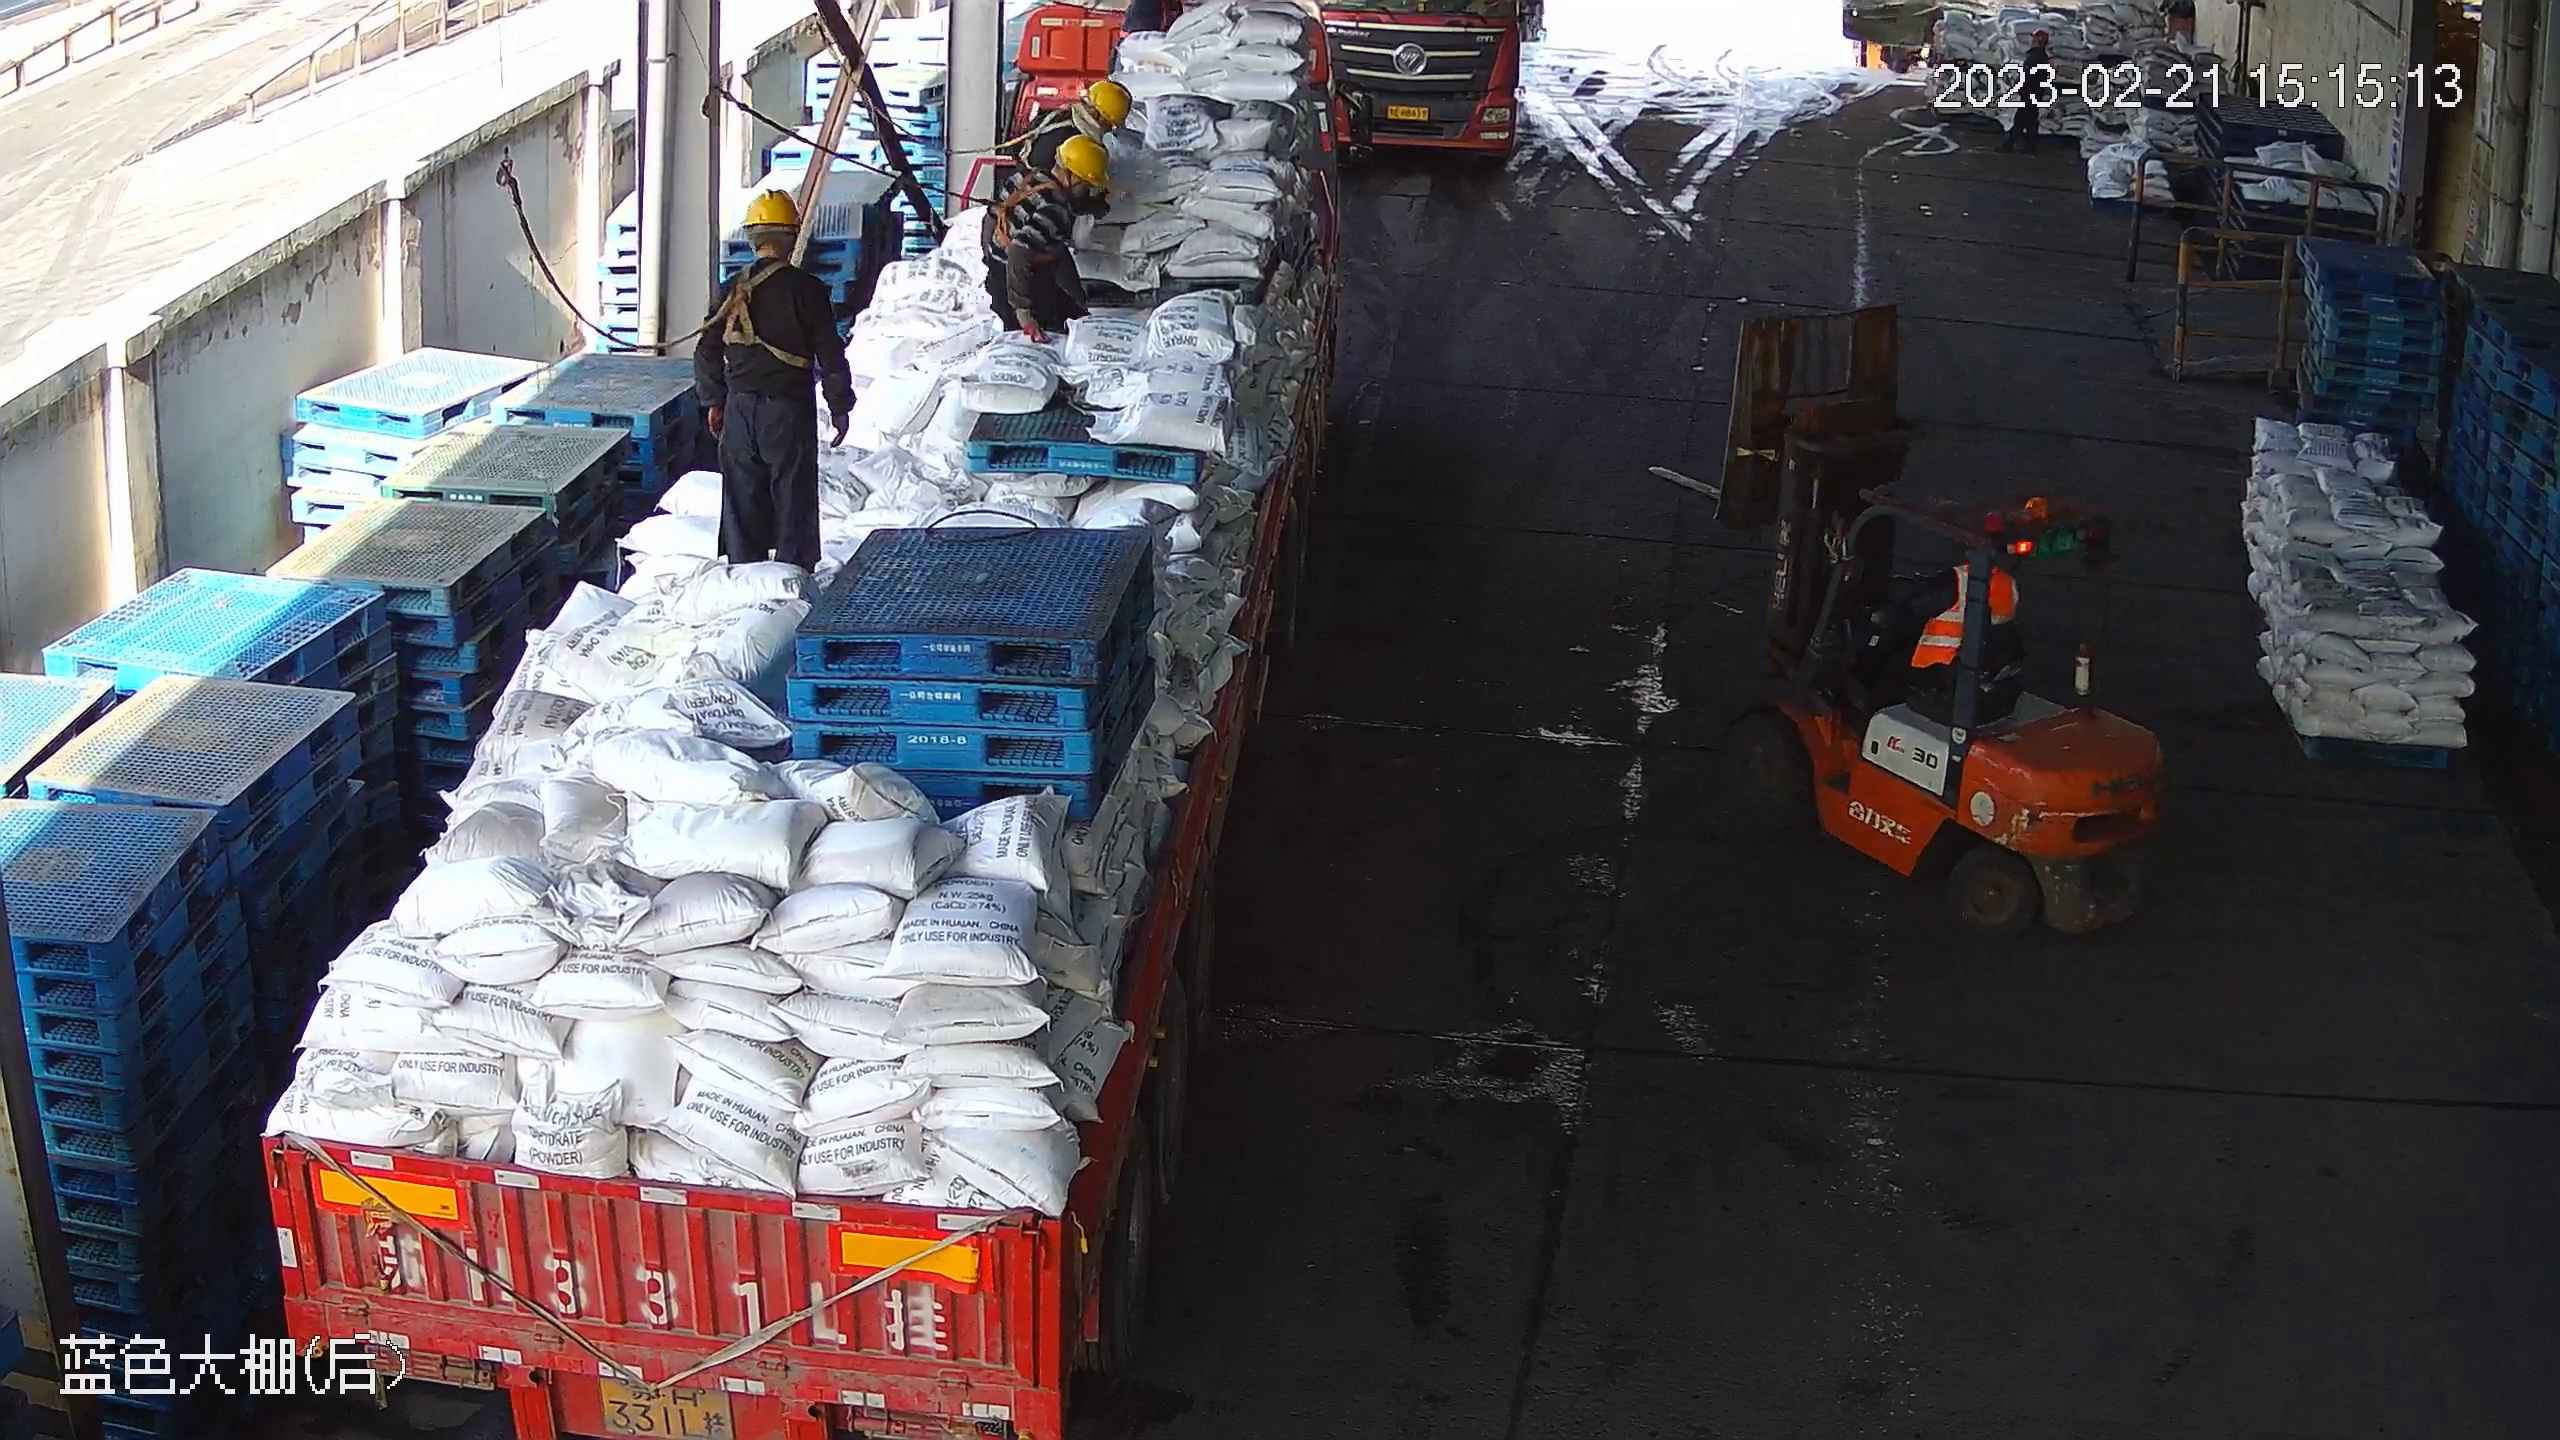belt: (715, 259, 815, 368), (982, 175, 1051, 237), (1017, 107, 1071, 161)
head: (707, 192, 851, 331), (998, 136, 1112, 231)
helmet: (1057, 132, 1122, 190), (1088, 68, 1142, 132), (744, 188, 805, 231)
people: (690, 184, 861, 571)
truck: (249, 3, 1325, 1440), (1312, 1, 1542, 164)
